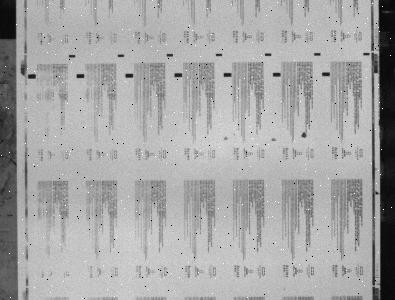qblock: (125, 73, 133, 78), (28, 74, 36, 79), (174, 73, 183, 77), (76, 74, 85, 78), (322, 72, 330, 76), (273, 72, 281, 76), (224, 73, 232, 77)
smallqblock: (69, 54, 76, 58), (216, 53, 223, 56), (265, 53, 272, 56), (167, 54, 174, 57), (363, 52, 370, 55), (314, 53, 321, 56), (117, 54, 124, 57)
